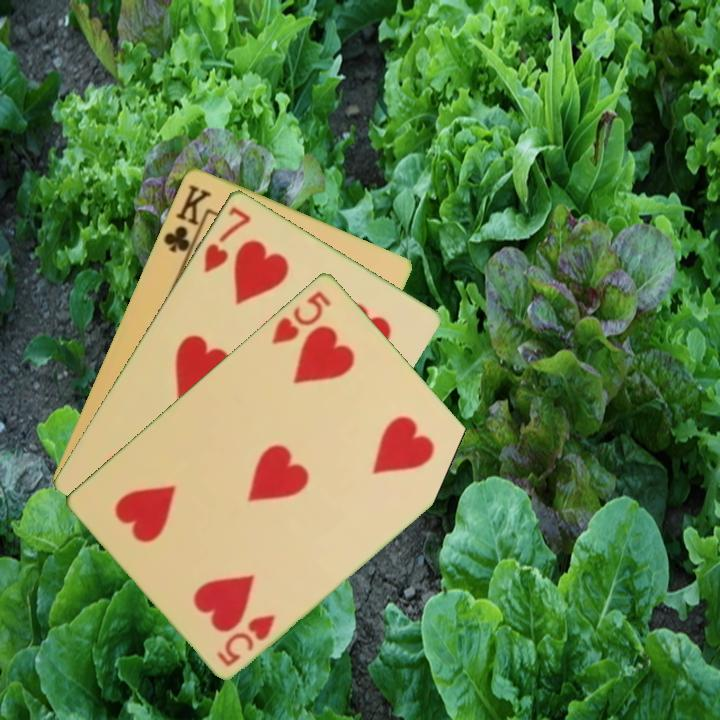5h: (267, 286, 335, 347), (212, 610, 278, 669)
7h: (200, 202, 254, 275)
Kc: (159, 180, 215, 263)
